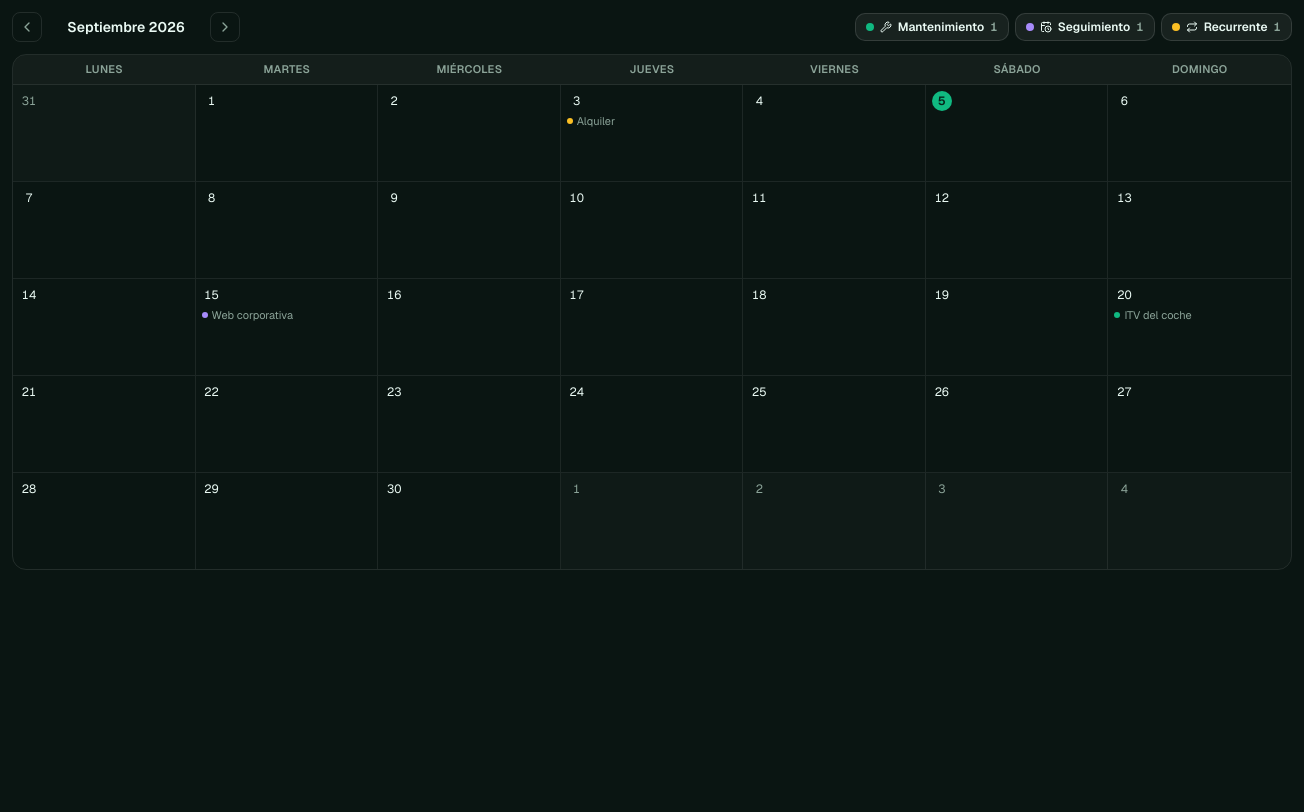
Test case: Calendario › pulsar un día con eventos abre su detalle, no el alta
Click the button with aria-label ", 20 de septiembre de 2026": (1200, 326) [1108, 278, 1291, 374]
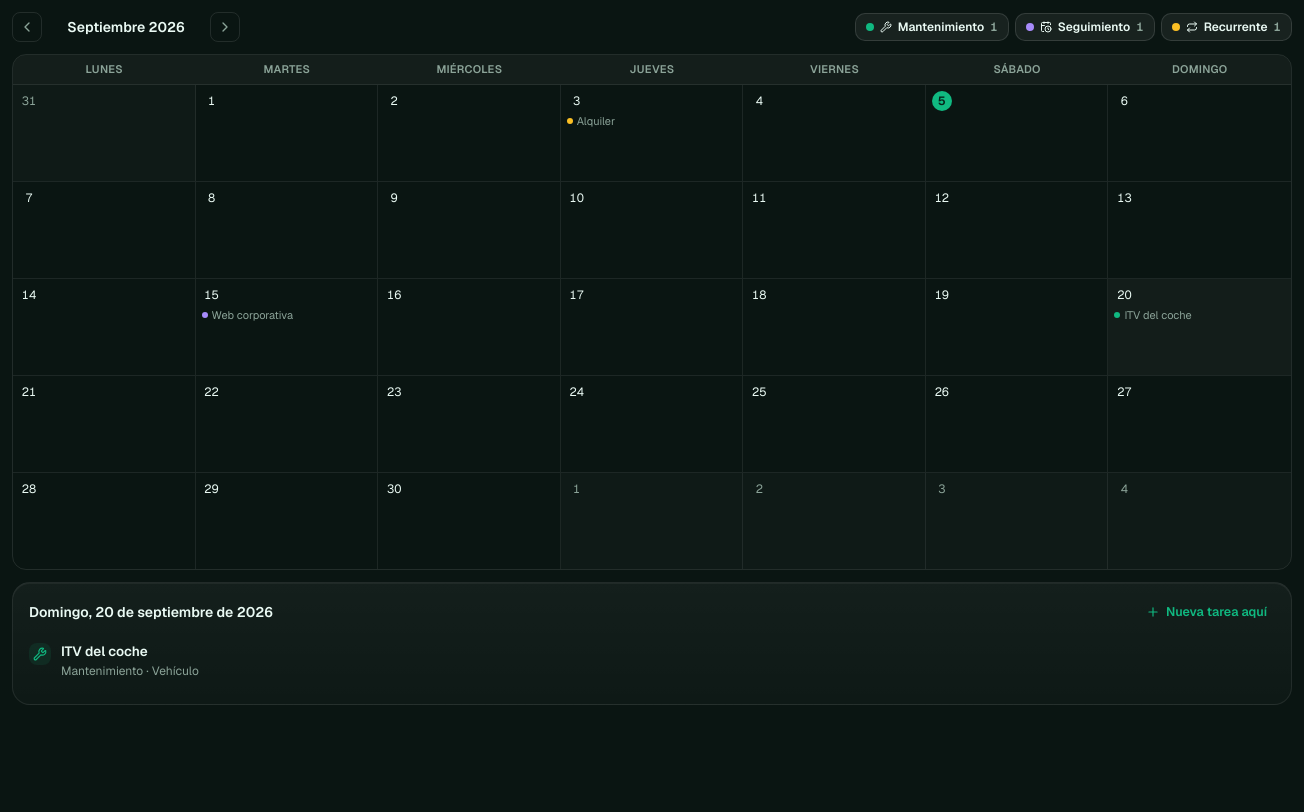
Result: the heading "Domingo, 20 de septiembre de 2026" is shown at [29, 602, 273, 622]
Result: the text "ITV del coche" below "Domingo, 20 de septiembre de 2026" is shown at [61, 642, 148, 660]
